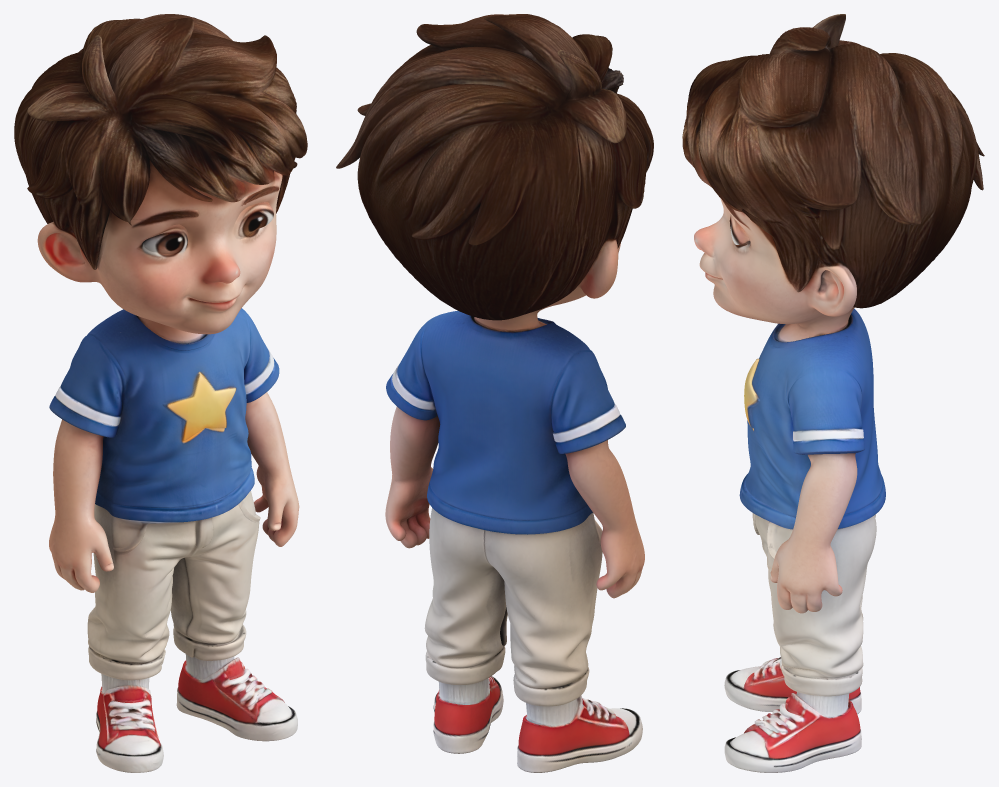
Rendered from base_basic_shaded.glb.
3 renders of one model, left to right at view 1: azimuth 30°, elevation 25°; view 2: azimuth 150°, elevation 25°; view 3: azimuth 270°, elevation 25°, orthographic. The views are drawn at different scales.
Parts seen in each view (by area): view 1: model; view 2: model; view 3: model.
Boxes of the visible parts, box(x1,y1,x2,y2) form: model: box(14, 14, 307, 772); model: box(336, 14, 653, 772); model: box(682, 14, 984, 772).
Size of the model in its own units: 0.7466 by 1.91 by 0.7464.
1 material, 1 textured.
